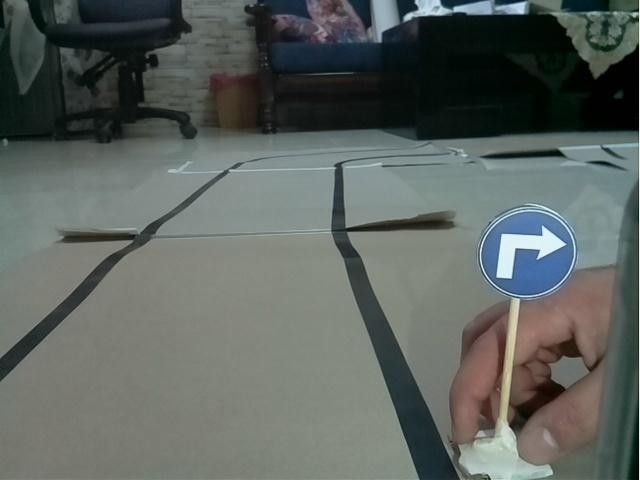turn: (474, 199, 579, 299)
